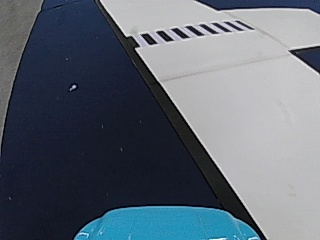CrossWalk: (132, 19, 250, 46)
